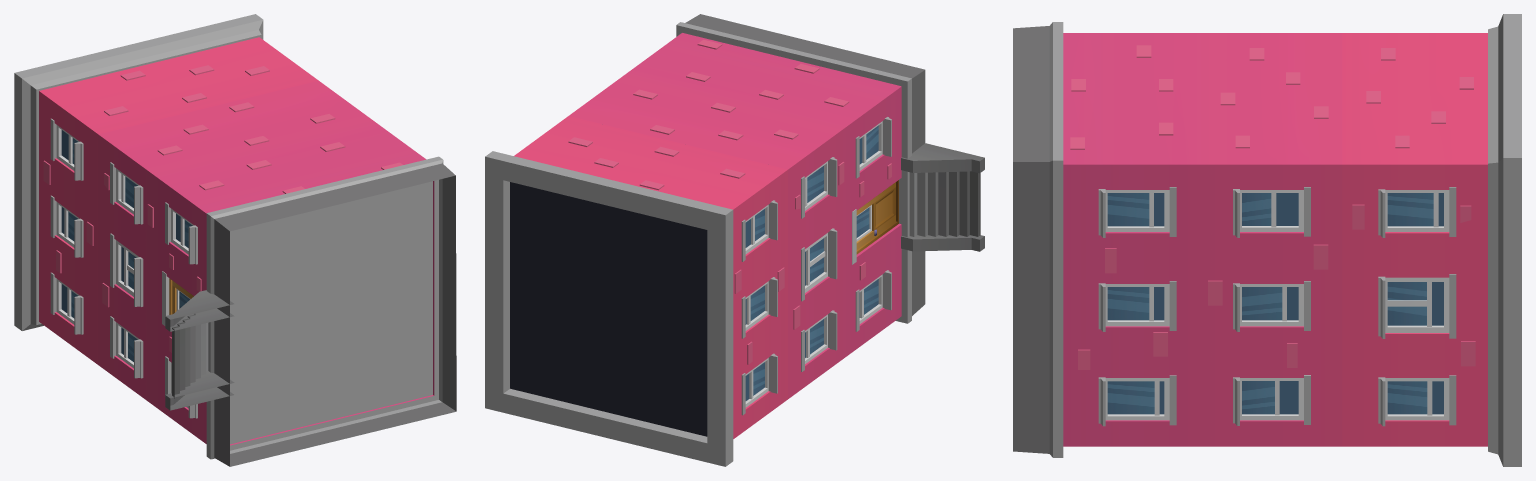
The model's file is Building_2_4_B.fbx.
3 renders of one model, left to right at view 1: azimuth 30°, elevation 25°; view 2: azimuth 150°, elevation 25°; view 3: azimuth 270°, elevation 25°, orthographic. The views are drawn at different scales.
Parts seen in each view (by area): view 1: Building_2_4_B; view 2: Building_2_4_B; view 3: Building_2_4_B.
Boxes of the visible parts, x1,y1,x2,y2 form: Building_2_4_B: [14, 14, 456, 466]; Building_2_4_B: [485, 14, 984, 466]; Building_2_4_B: [1013, 14, 1521, 466].
Bounding box in the file's own units: 754 × 620 × 926.
